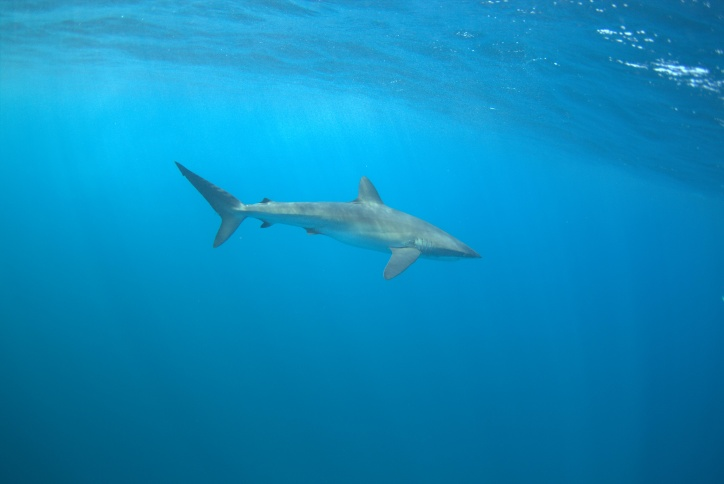Sedoso: (146, 149, 497, 302)
